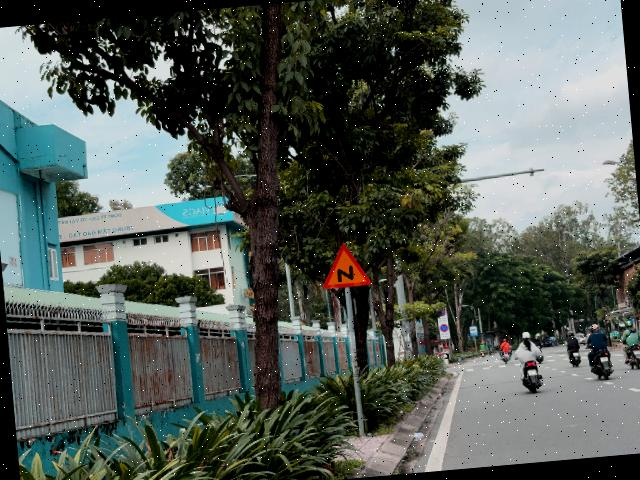nhieu-cho-ngoat-nguy-hiem-lien-tiep: (318, 240, 372, 289)
